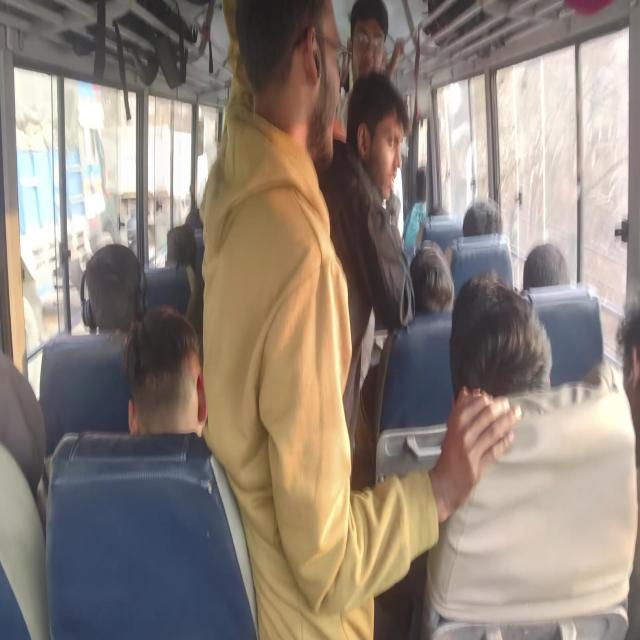person: (246, 0, 385, 257), (124, 296, 256, 518), (455, 277, 575, 452), (344, 91, 428, 222), (0, 363, 59, 495), (523, 249, 593, 347), (611, 314, 640, 533), (408, 243, 457, 334), (90, 242, 130, 325), (358, 0, 392, 94), (464, 191, 506, 252), (151, 222, 186, 262)
